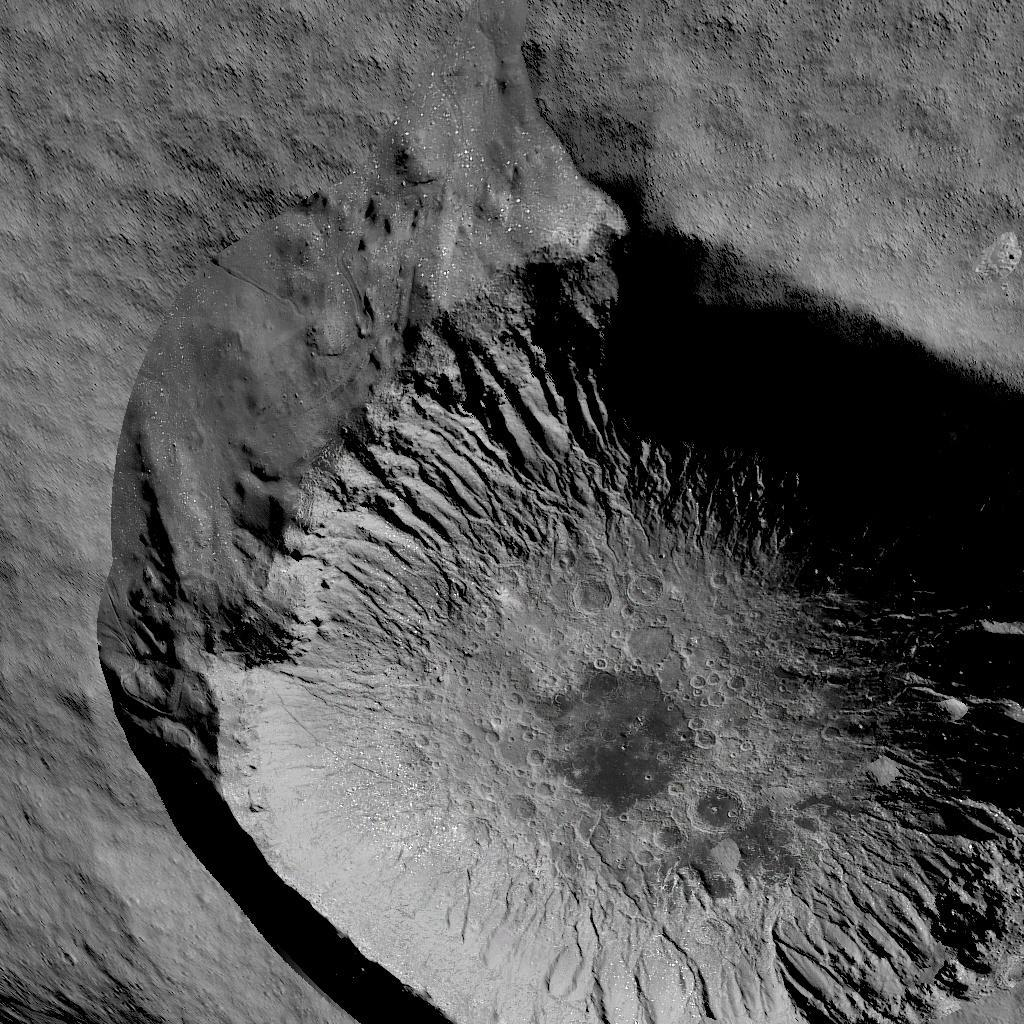Crater: (1, 82, 1024, 1024)
Plan surface: (1, 0, 1024, 64)
